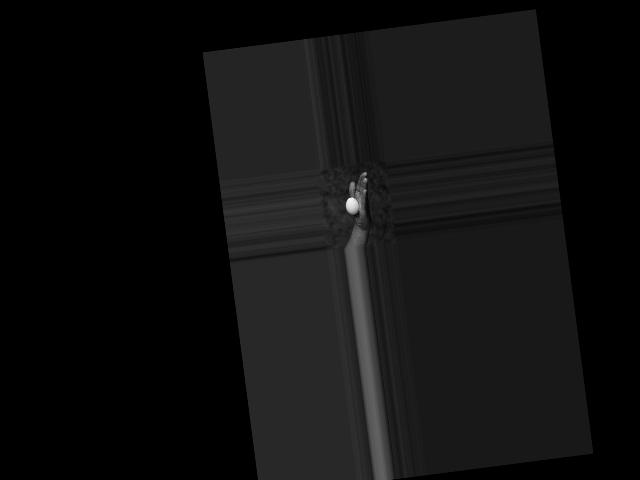egg: (344, 196, 360, 215)
